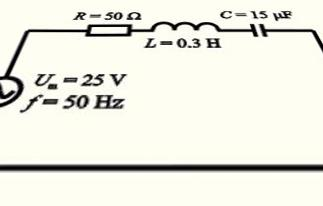inductor: (140, 17, 229, 36)
